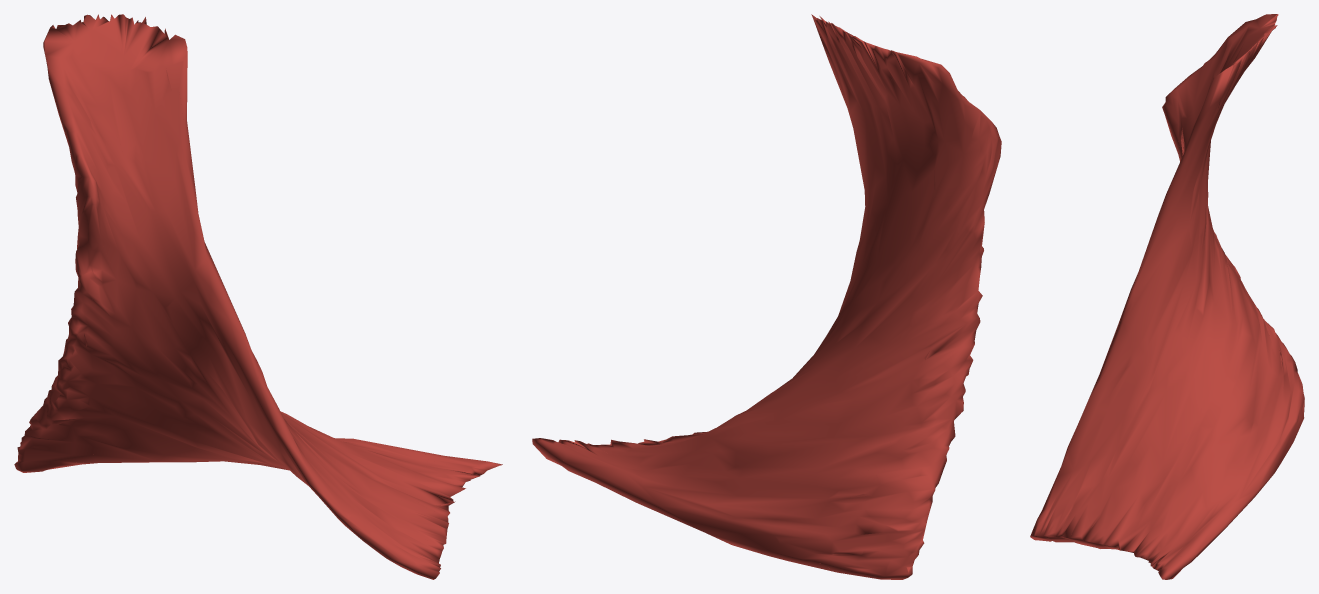
File: musculos-ascending-part-of-trapezius-muscle-l.glb
The picture shows the model from 3 angles, left to right: view 1: azimuth 30°, elevation 25°; view 2: azimuth 150°, elevation 25°; view 3: azimuth 270°, elevation 25°; orthographic projection. The views are drawn at different scales.
Parts seen in each view (by area): view 1: Ascending part of trapezius muscle.l; view 2: Ascending part of trapezius muscle.l; view 3: Ascending part of trapezius muscle.l.
Part boxes in pixels (x1,y1,x2,y2): Ascending part of trapezius muscle.l: (14, 14, 502, 579); Ascending part of trapezius muscle.l: (532, 14, 1001, 579); Ascending part of trapezius muscle.l: (1030, 14, 1304, 579).
Bounding box in the file's own units: 0.1351 × 0.1592 × 0.092.
